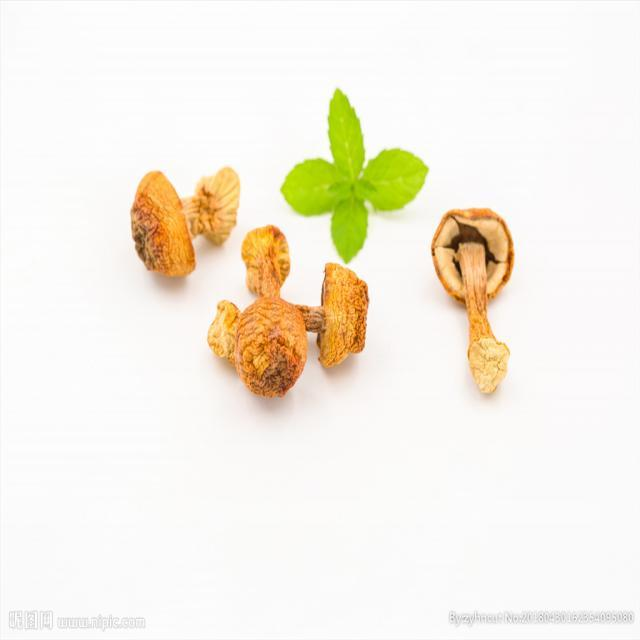Agaricus blazei Murill: (212, 228, 377, 389), (430, 209, 514, 390), (130, 165, 239, 274)
